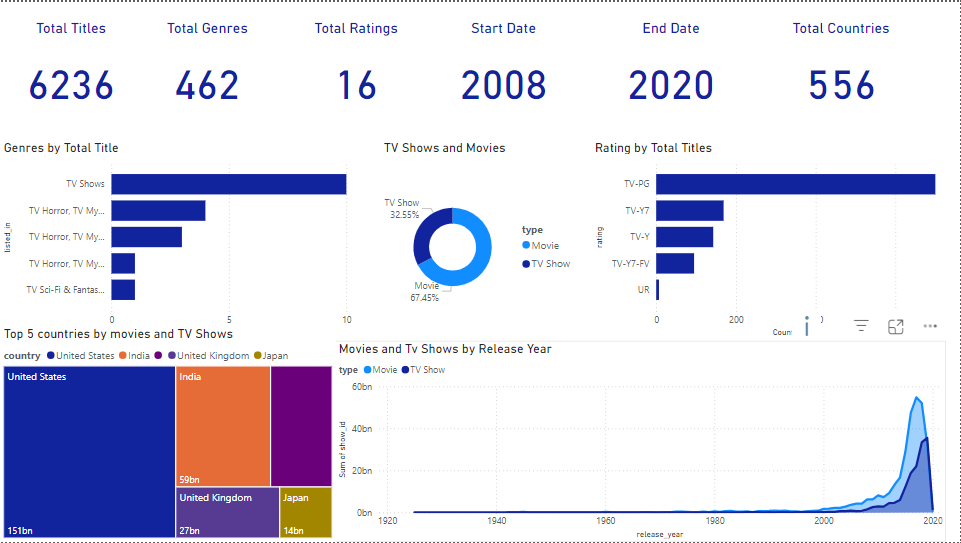

What the dashboard file says about the page in this screenshot:
{"tool":"powerbi","page":{"name":"Page 1","canvas":[1280,720],"ordinal":0},"visuals":[{"type":"donutChart","title":"TV Shows and Movies","fields":{"Y":["Sum(netflix_titles.show_id)"],"Category":["netflix_titles.type"]},"box":[506,184,268,268],"z":0},{"type":"clusteredBarChart","title":"Rating by Total Titles","fields":{"Y":["CountNonNull(netflix_titles.title)"],"Category":["netflix_titles.rating"]},"box":[788,184,474,268],"z":1000},{"type":"clusteredBarChart","title":"Genres by Total Title","fields":{"Y":["CountNonNull(netflix_titles.title)"],"Category":["netflix_titles.listed_in"]},"box":[0,184,474,268],"z":2000},{"type":"areaChart","title":"Movies and Tv Shows by Release Year","fields":{"Y":["Sum(netflix_titles.show_id)"],"Category":["netflix_titles.release_year"],"Series":["netflix_titles.type"]},"box":[447.3,451.5,815.1,269],"z":3000},{"type":"treemap","title":"Top 5 countries by movies and TV Shows","fields":{"Group":["netflix_titles.country"],"Values":["Sum(netflix_titles.show_id)"]},"box":[0,432,448,288],"z":4000},{"type":"card","title":"Total Titles","fields":{"Values":["CountNonNull(netflix_titles.title)"]},"box":[16,24,156,144],"z":5000},{"type":"card","title":"Start Date","fields":{"Values":["Min(netflix_titles.date_added)"]},"box":[594,24,156,144],"z":6000},{"type":"card","title":"Total Ratings","fields":{"Values":["Count(netflix_titles.rating)"]},"box":[396,24,156,144],"z":7000},{"type":"card","title":"Total Genres","fields":{"Values":["Count(netflix_titles.listed_in)"]},"box":[198,24,156,144],"z":8000},{"type":"card","title":"End Date","fields":{"Values":["Max(netflix_titles.date_added)"]},"box":[816,24,156,144],"z":9000},{"type":"card","title":"Total Countries","fields":{"Values":["Count(netflix_titles.country)"]},"box":[1044,24,156,144],"z":10000}]}

Visuals, with their boxes in screenshot pixels (x1, y1, x2, y2), scaled from the page's 1280x720 canvas onto the 961x543 screenshot:
"TV Shows and Movies" donutChart: {"left": 380, "top": 139, "right": 581, "bottom": 341}
"Rating by Total Titles" clusteredBarChart: {"left": 592, "top": 139, "right": 947, "bottom": 341}
"Genres by Total Title" clusteredBarChart: {"left": 0, "top": 139, "right": 356, "bottom": 341}
"Movies and Tv Shows by Release Year" areaChart: {"left": 336, "top": 341, "right": 948, "bottom": 542}
"Top 5 countries by movies and TV Shows" treemap: {"left": 0, "top": 326, "right": 336, "bottom": 542}
"Total Titles" card: {"left": 12, "top": 18, "right": 129, "bottom": 127}
"Start Date" card: {"left": 446, "top": 18, "right": 563, "bottom": 127}
"Total Ratings" card: {"left": 297, "top": 18, "right": 414, "bottom": 127}
"Total Genres" card: {"left": 149, "top": 18, "right": 266, "bottom": 127}
"End Date" card: {"left": 613, "top": 18, "right": 730, "bottom": 127}
"Total Countries" card: {"left": 784, "top": 18, "right": 901, "bottom": 127}
